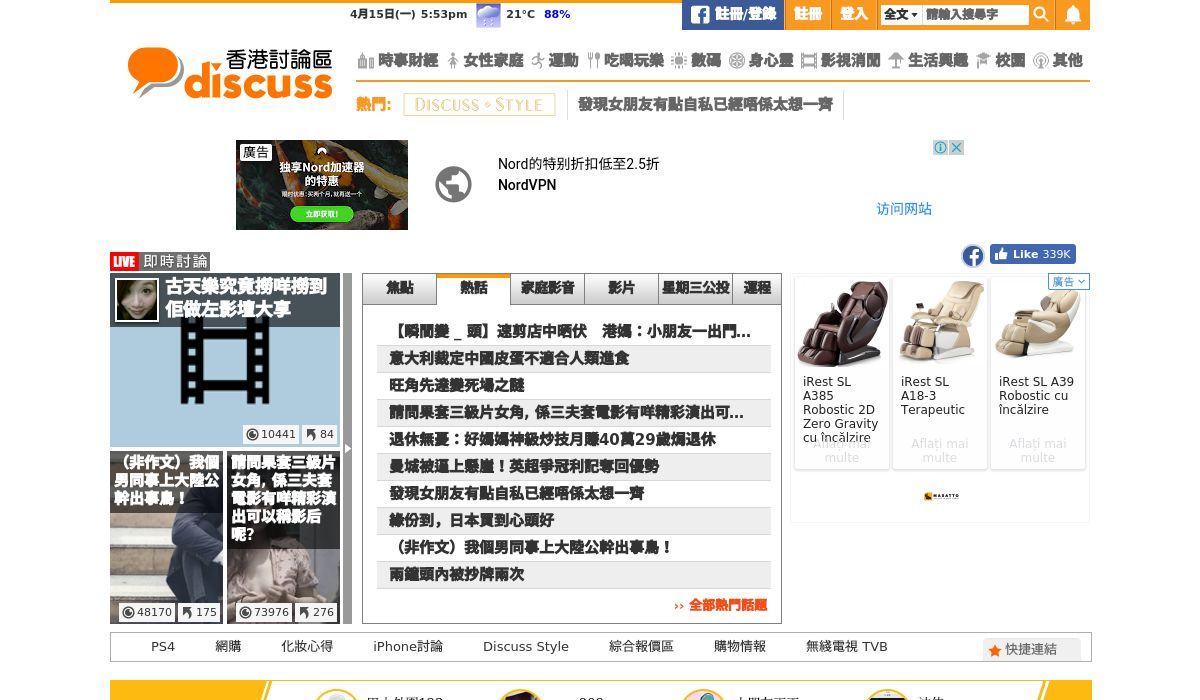menu: (109, 1, 1089, 30), (355, 44, 1091, 82)
menu-button: (684, 1, 786, 30), (356, 47, 445, 75), (446, 49, 526, 74), (887, 51, 971, 74), (798, 51, 883, 73), (585, 50, 668, 72), (726, 49, 797, 72), (783, 1, 833, 30), (834, 1, 880, 31), (973, 49, 1030, 71), (1031, 50, 1085, 71), (673, 50, 724, 72), (532, 50, 580, 72), (1058, 1, 1086, 29)
menu-search: (882, 1, 1057, 30)
